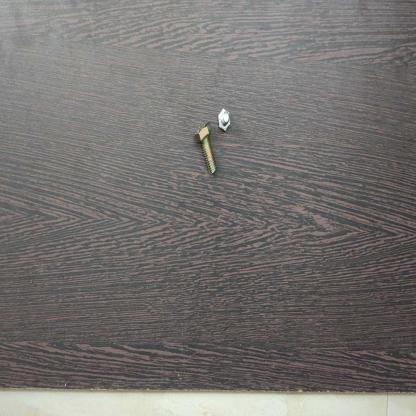Bolts: (193, 120, 217, 184), (216, 104, 232, 134)
